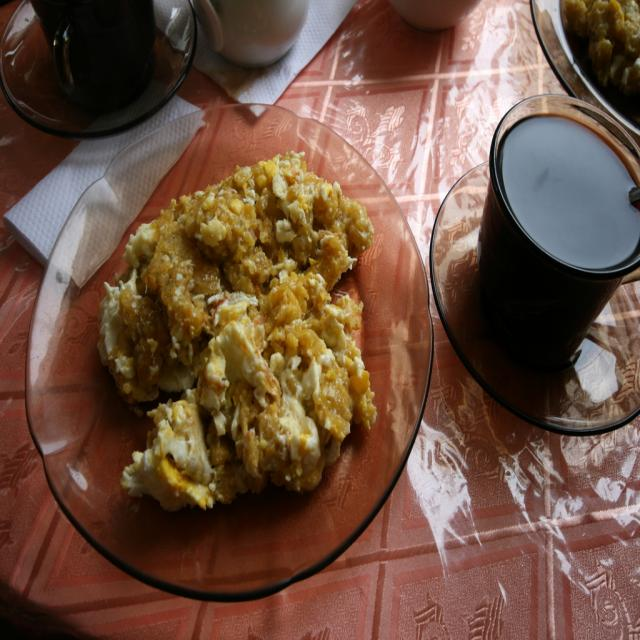Coffee: (469, 96, 640, 368)
